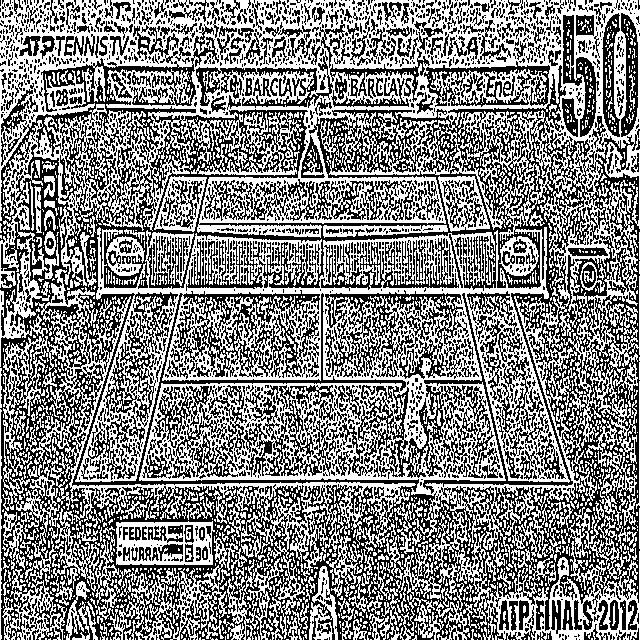left side: (436, 175, 571, 482), (74, 174, 208, 482)
player: (398, 356, 440, 493), (296, 88, 328, 180)
